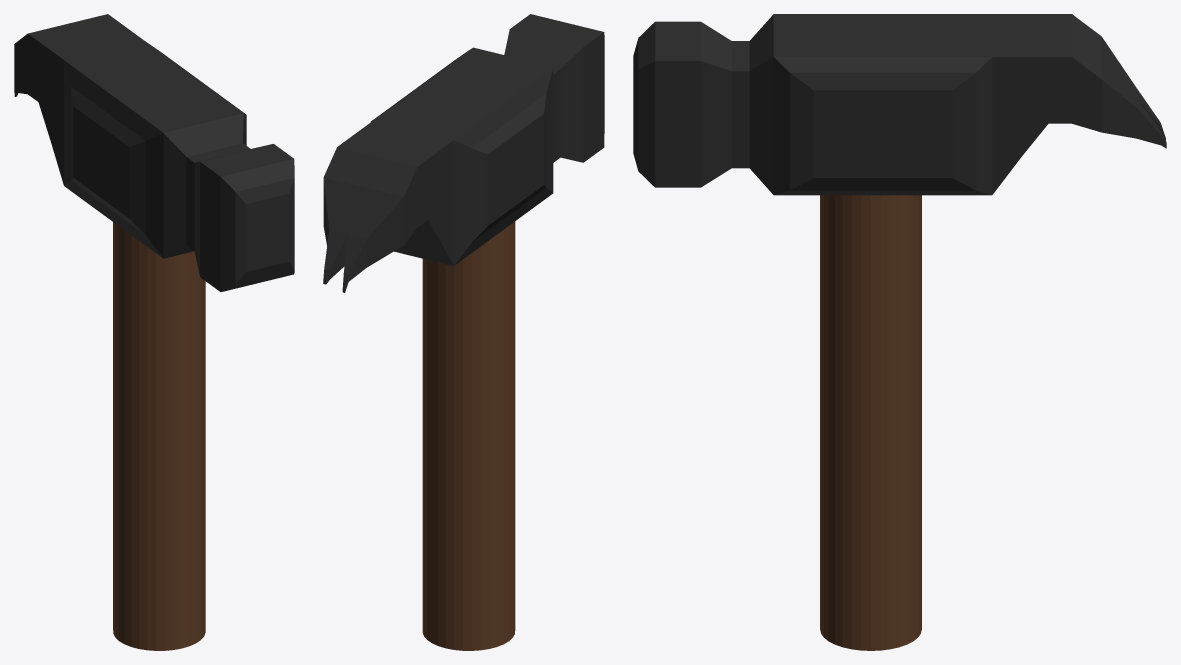
Rendered from Hammer.fbx.
3 renders of one model, left to right at view 1: azimuth 30°, elevation 25°; view 2: azimuth 150°, elevation 25°; view 3: azimuth 270°, elevation 25°, orthographic. The views are drawn at different scales.
Parts seen in each view (by area): view 1: Head, Handle; view 2: Head, Handle; view 3: Head, Handle.
Part boxes in pixels (x1,y1,x2,y2): Head: (14, 14, 294, 291); Handle: (113, 222, 205, 650); Head: (323, 14, 604, 292); Handle: (422, 221, 515, 650); Head: (633, 14, 1166, 195); Handle: (820, 195, 921, 650).
Size of the model in its own units: 53.66 by 258 by 210.
